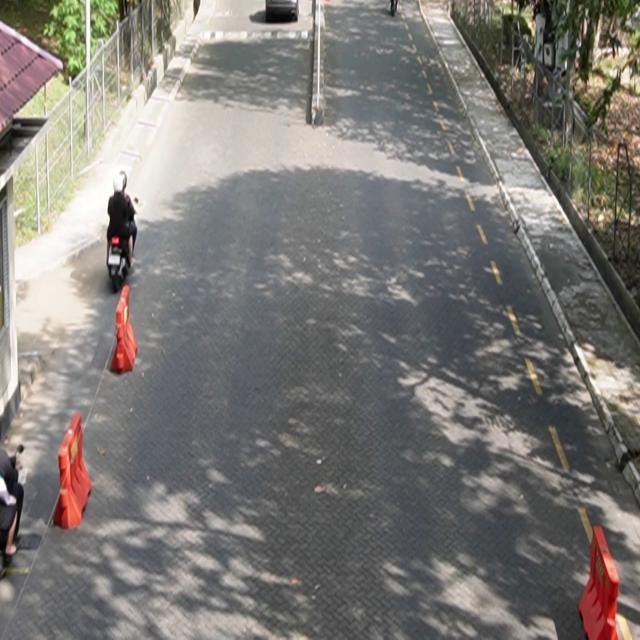car: (266, 1, 300, 23)
